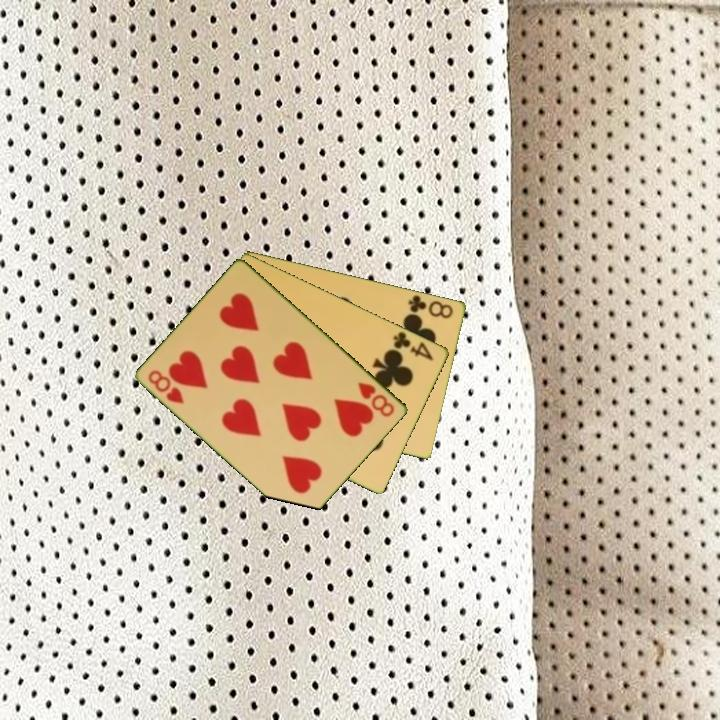4c: (390, 328, 437, 363)
8c: (405, 291, 456, 321)
8h: (355, 378, 398, 420), (145, 366, 187, 407)
